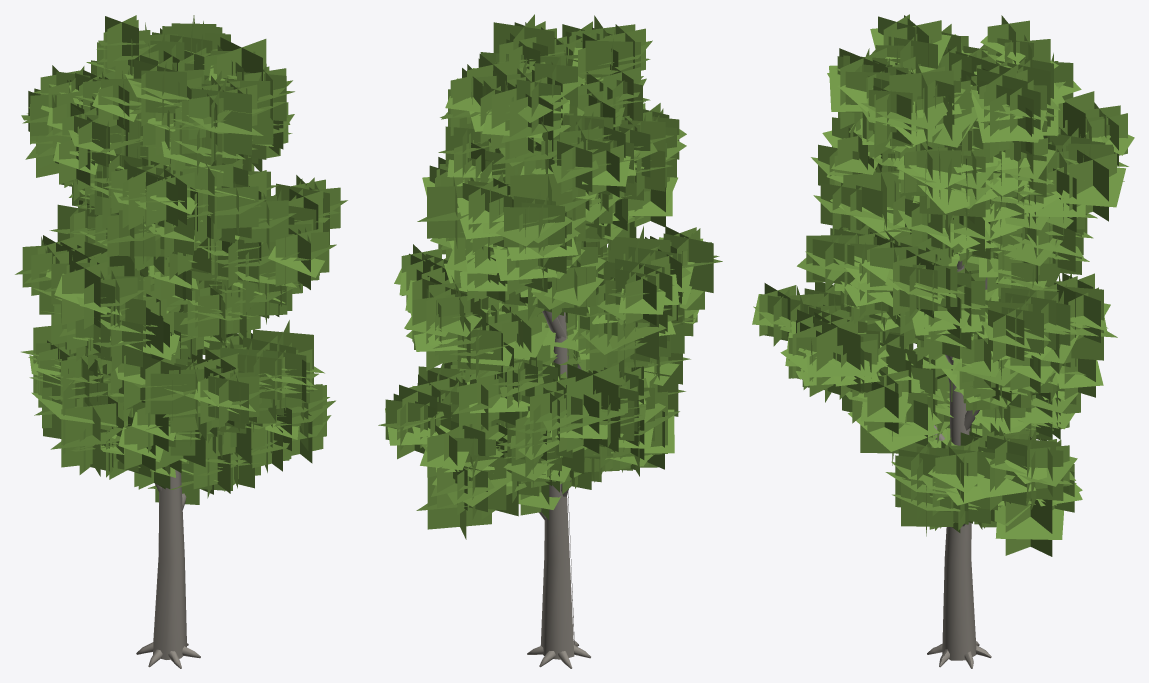
Rendered from tilleul_3_f2_jeu.glb.
3 renders of one model, left to right at view 1: azimuth 30°, elevation 25°; view 2: azimuth 150°, elevation 25°; view 3: azimuth 270°, elevation 25°, orthographic.
Parts seen in each view (by area): view 1: Tilleul_T3_f2_Leger; view 2: Tilleul_T3_f2_Leger; view 3: Tilleul_T3_f2_Leger.
Part boxes in pixels (x1,y1,x2,y2): Tilleul_T3_f2_Leger: (15, 15, 347, 668); Tilleul_T3_f2_Leger: (378, 14, 722, 668); Tilleul_T3_f2_Leger: (752, 14, 1134, 668).
Size of the model in its own units: 7.13 by 14.38 by 8.02.
